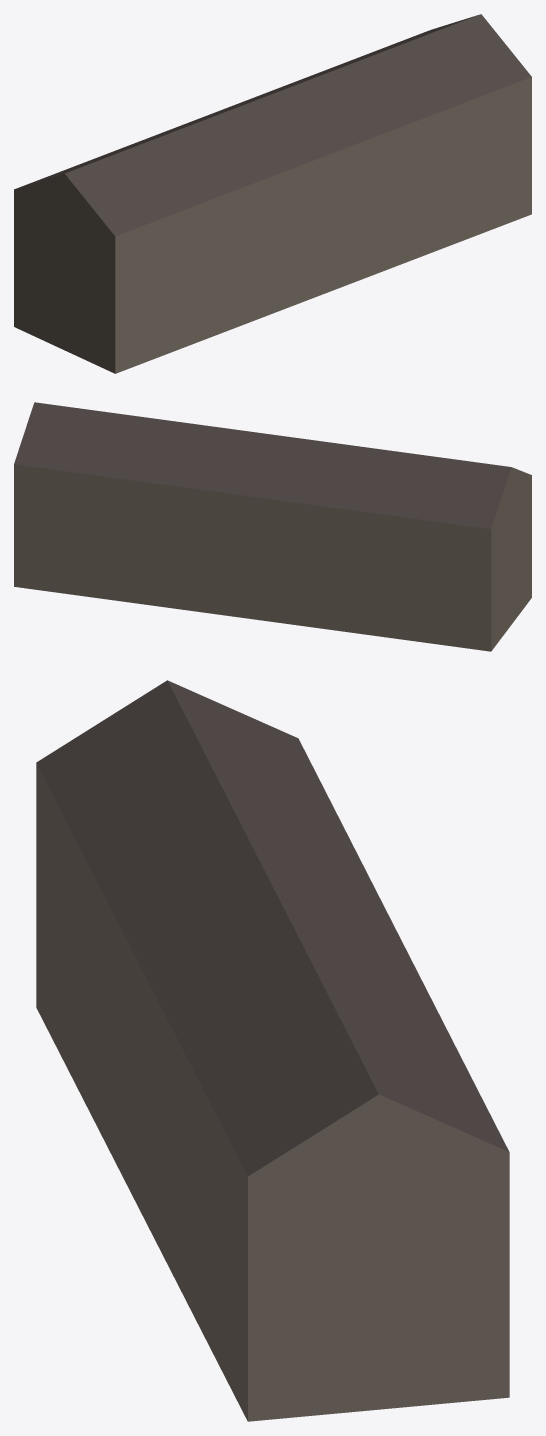
3 views of the same model, one above another, from view 1: azimuth 30°, elevation 25°; view 2: azimuth 150°, elevation 25°; view 3: azimuth 270°, elevation 25° (orthographic). The views are drawn at different scales.
Parts seen in each view (by area): view 1: HP-w1233759512; view 2: HP-w1233759512; view 3: HP-w1233759512.
Part boxes in pixels (x1=…): HP-w1233759512: x1=14, y1=14, x2=531, y2=373; HP-w1233759512: x1=14, y1=402, x2=531, y2=651; HP-w1233759512: x1=36, y1=680, x2=509, y2=1421.
Bounding box in the file's own units: 34.52 × 11.58 × 15.76.
